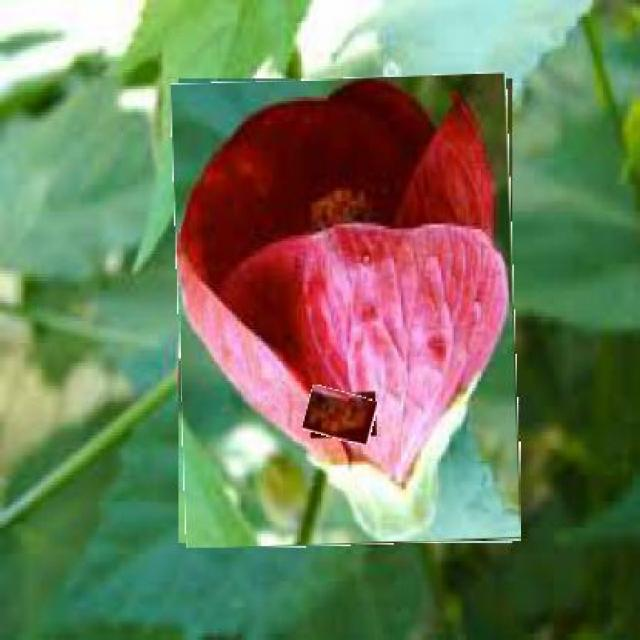Flower: (175, 76, 518, 547), (304, 389, 376, 443)
